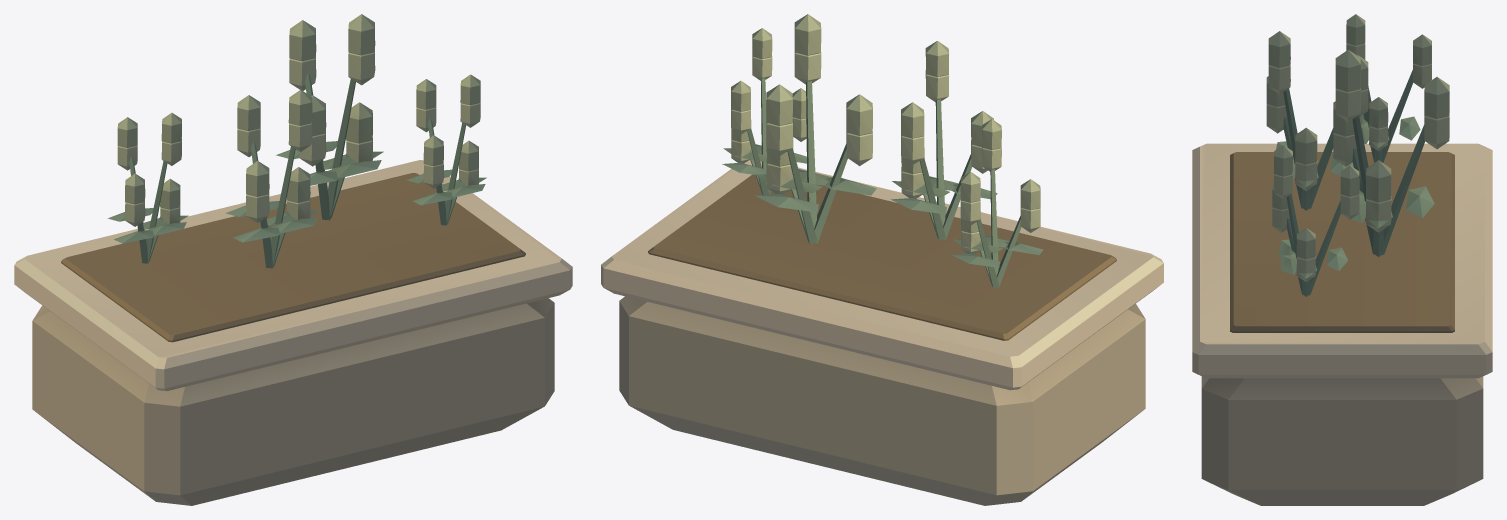
File: furniture_salbeitrog.glb
3 renders of one model, left to right at view 1: azimuth 30°, elevation 25°; view 2: azimuth 150°, elevation 25°; view 3: azimuth 270°, elevation 25°, orthographic.
Parts seen in each view (by area): view 1: furniture_salbeitrog; view 2: furniture_salbeitrog; view 3: furniture_salbeitrog.
Boxes of the visible parts, box(x1,y1,x2,y2) form: furniture_salbeitrog: box(14, 14, 572, 505); furniture_salbeitrog: box(601, 14, 1163, 505); furniture_salbeitrog: box(1192, 14, 1492, 505).
Bounding box in the file's own units: 1.22 × 1.11 × 0.747.
